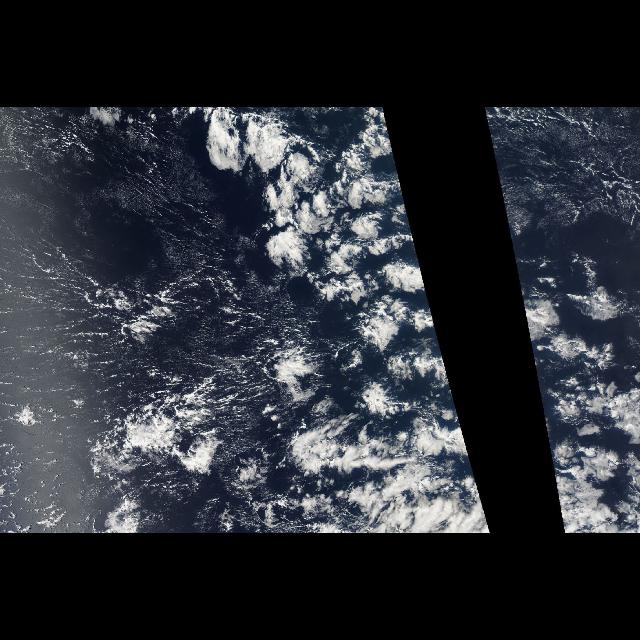Flower: (210, 108, 476, 476), (484, 108, 640, 476)
Gravel: (168, 470, 344, 526)
Sugar: (2, 110, 244, 526)
